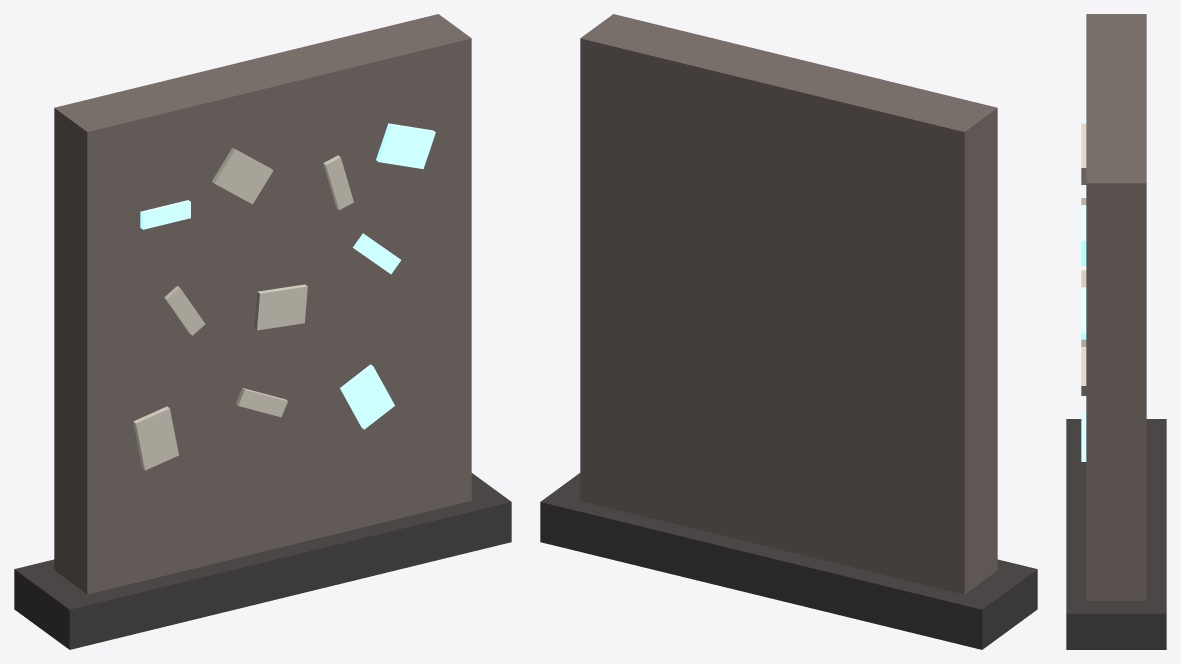
Rendered from mural_slab.fbx.
3 renders of one model, left to right at view 1: azimuth 30°, elevation 25°; view 2: azimuth 150°, elevation 25°; view 3: azimuth 270°, elevation 25°, orthographic. The views are drawn at different scales.
Visible parts, largest first — view 1: mural_slab; view 2: mural_slab; view 3: mural_slab.
Boxes of the visible parts, <box> form: mural_slab: <box>14,14,511,649</box>; mural_slab: <box>540,14,1037,649</box>; mural_slab: <box>1066,14,1166,649</box>.
Size of the model in its own units: 2.3 by 2.5 by 0.5.
